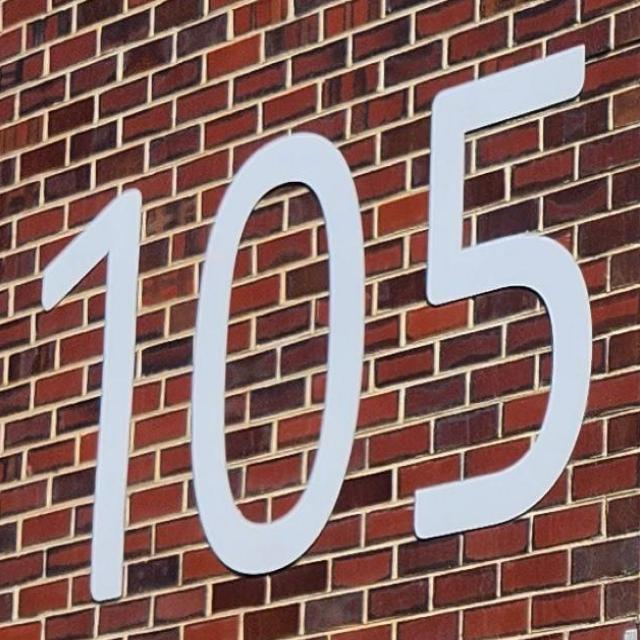character: (408, 39, 596, 546), (187, 131, 372, 580), (36, 185, 149, 608)
